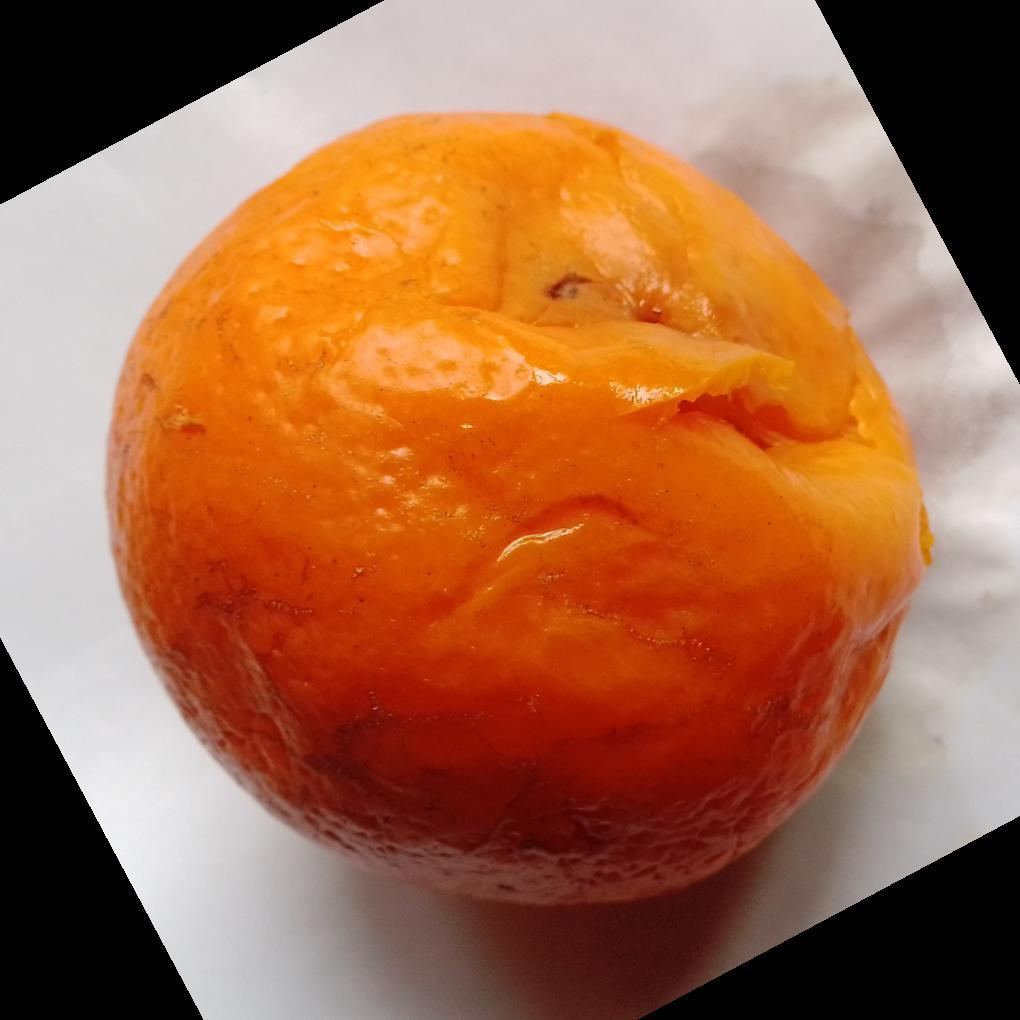FreshOrange: (100, 111, 937, 913)
